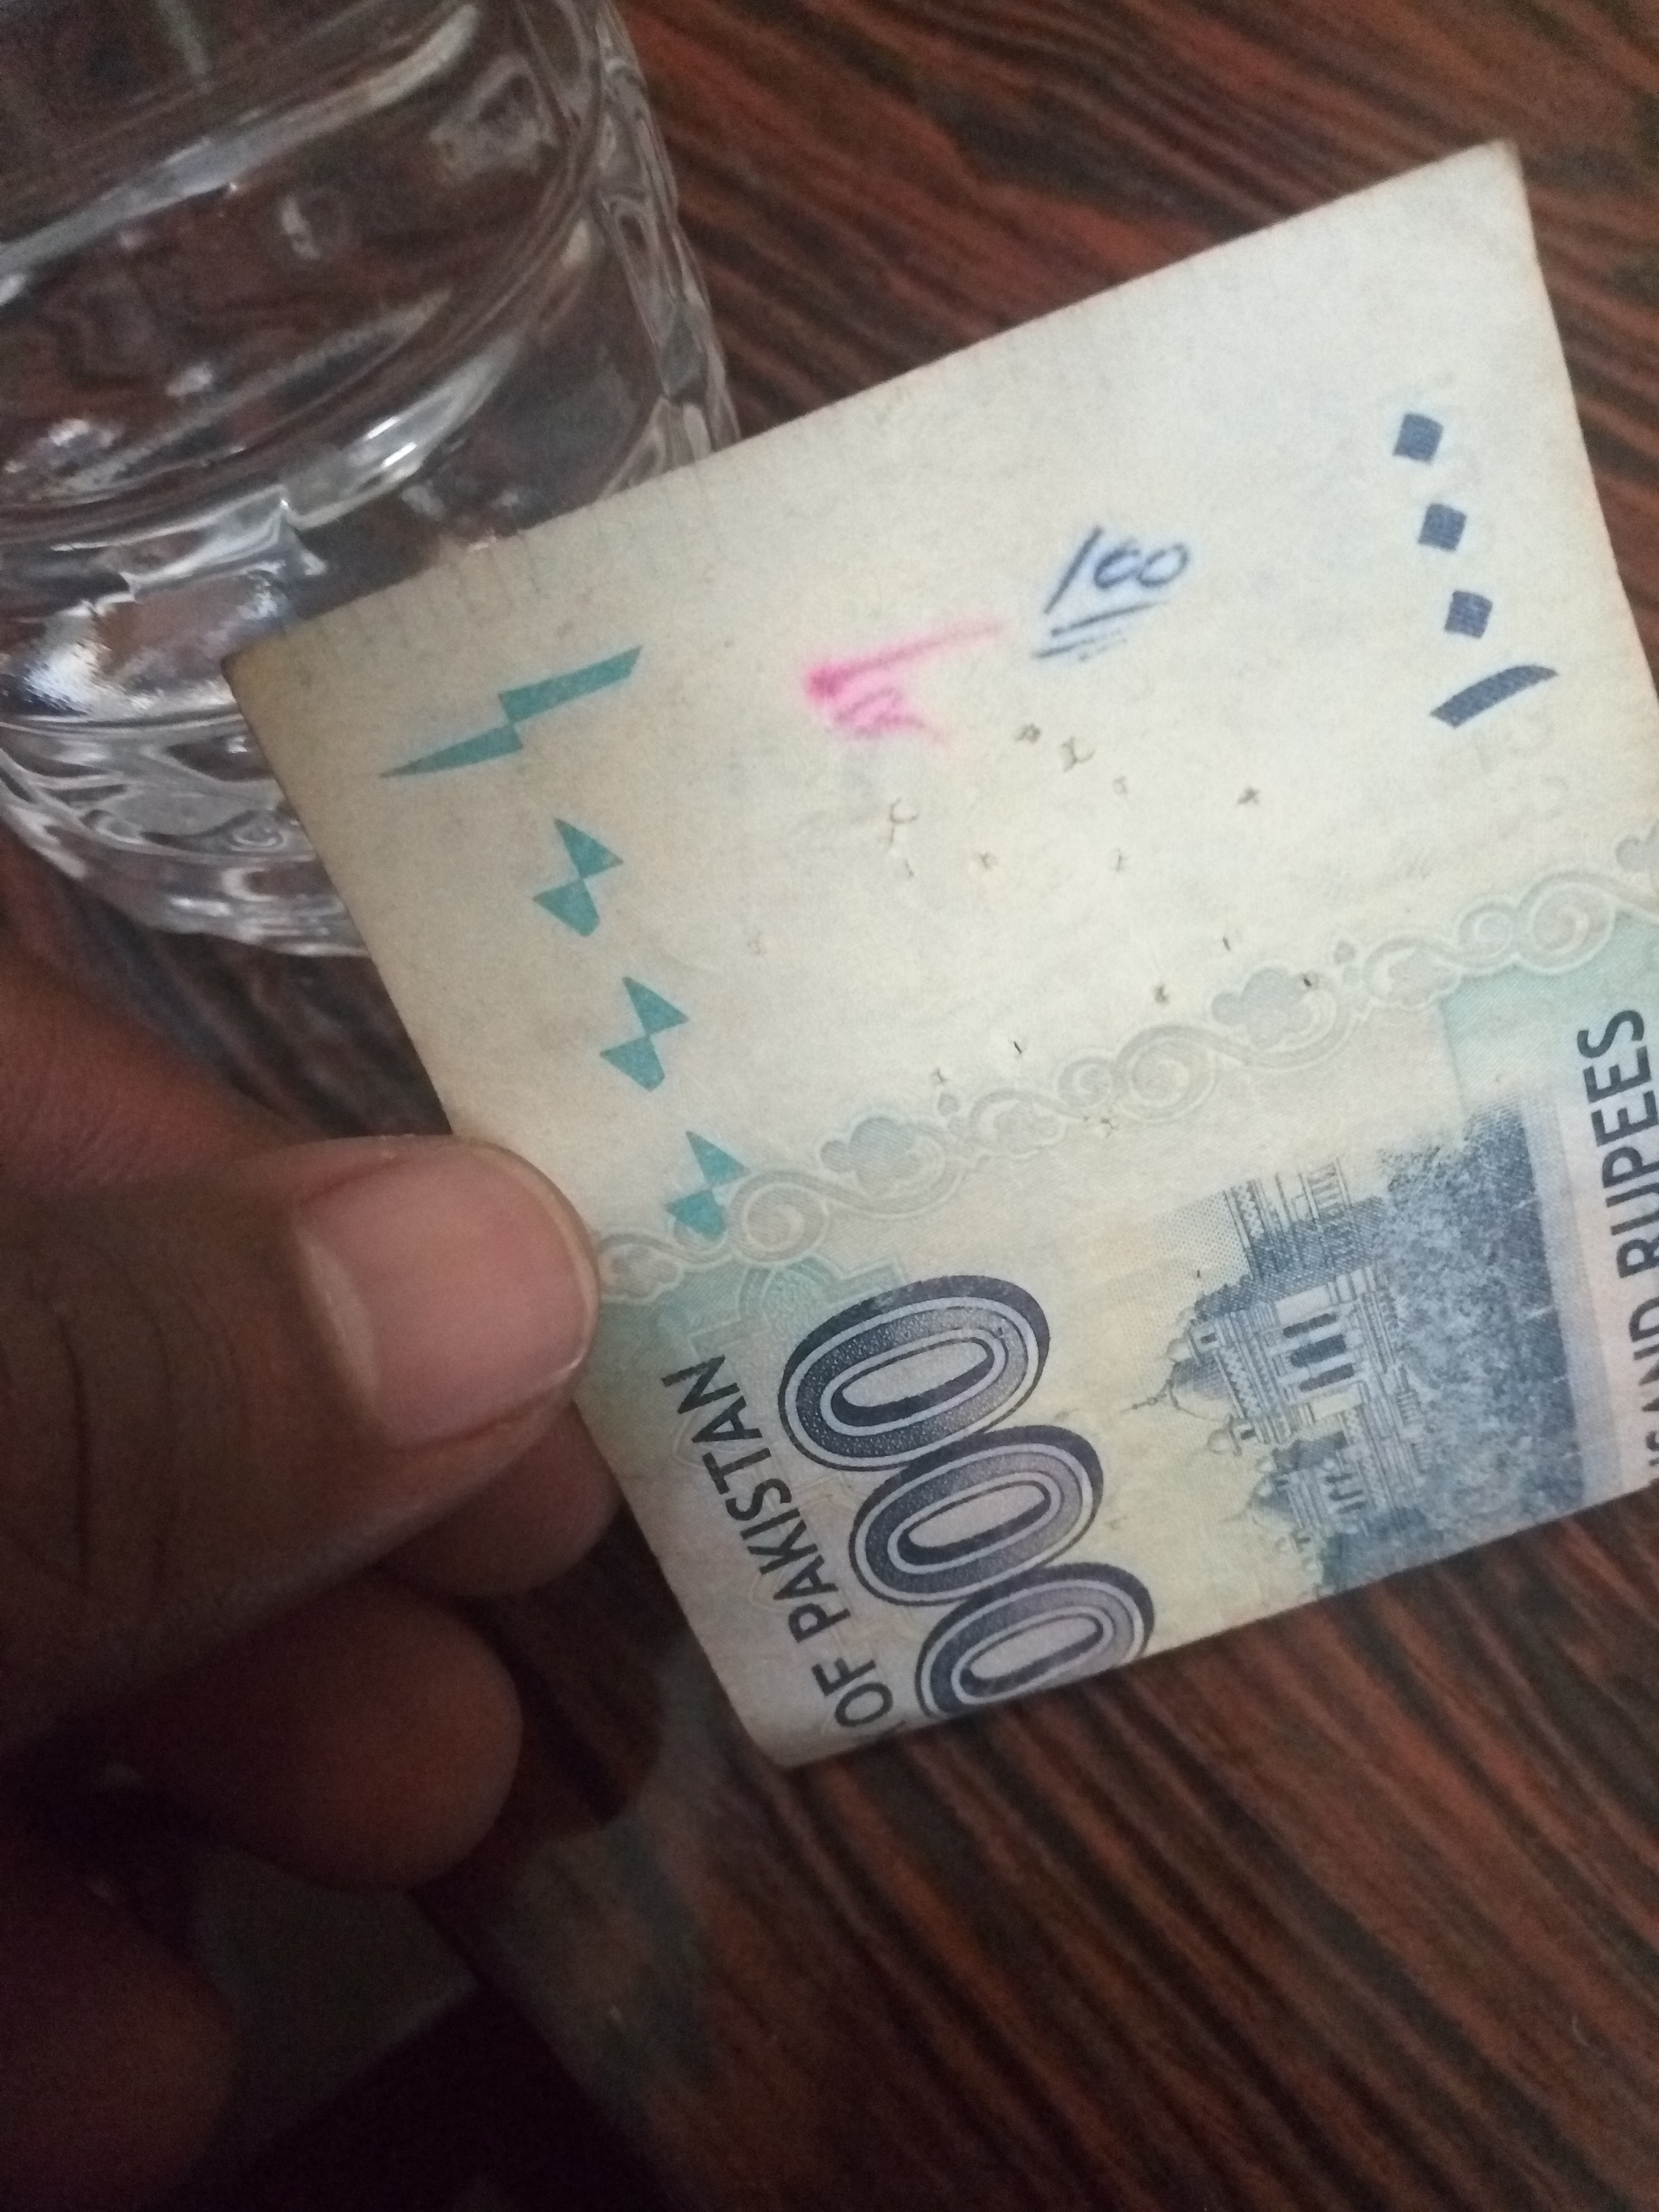1000 rupee: (274, 33, 1659, 1789)
